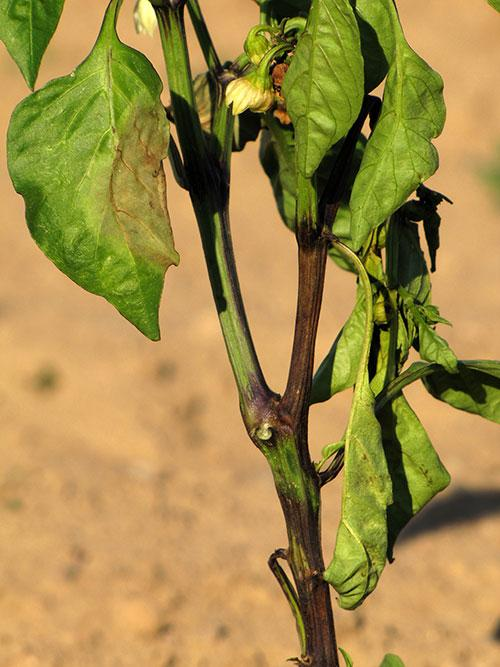Bell_pepper leaf: (7, 36, 177, 351), (332, 327, 460, 608)
